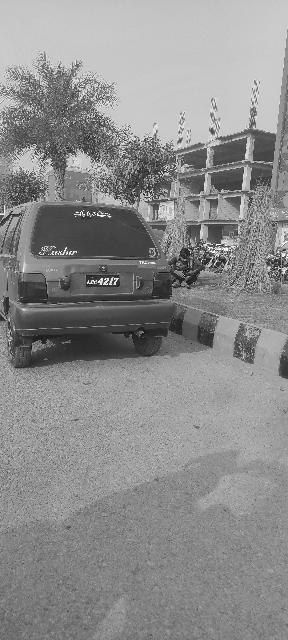Number: (85, 276, 120, 287)
